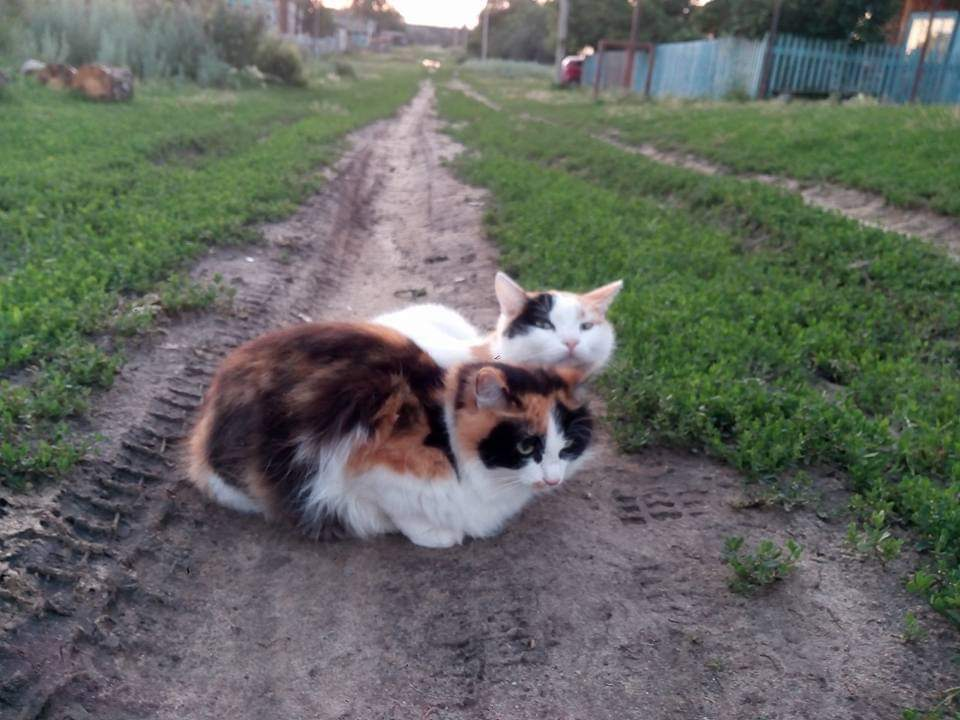cat: (185, 321, 601, 557)
